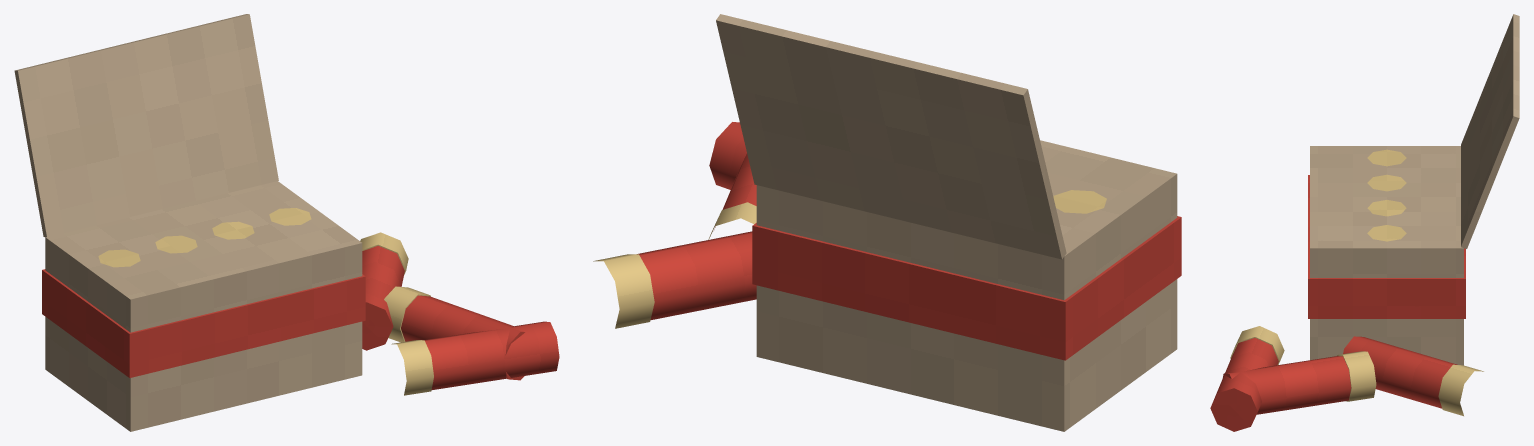
Rendered from item_shells.glb.
3 views of the same model, side by side, from view 1: azimuth 30°, elevation 25°; view 2: azimuth 150°, elevation 25°; view 3: azimuth 270°, elevation 25° (orthographic). The views are drawn at different scales.
Parts seen in each view (by area): view 1: shells; view 2: shells; view 3: shells.
Boxes of the visible parts, box(x1,y1,x2,y2) form: shells: box(14, 14, 559, 431); shells: box(593, 14, 1181, 431); shells: box(1210, 14, 1519, 431).
Bounding box in the file's own units: 0.1821 × 0.1268 × 0.1407.
3 materials, 3 textured.
